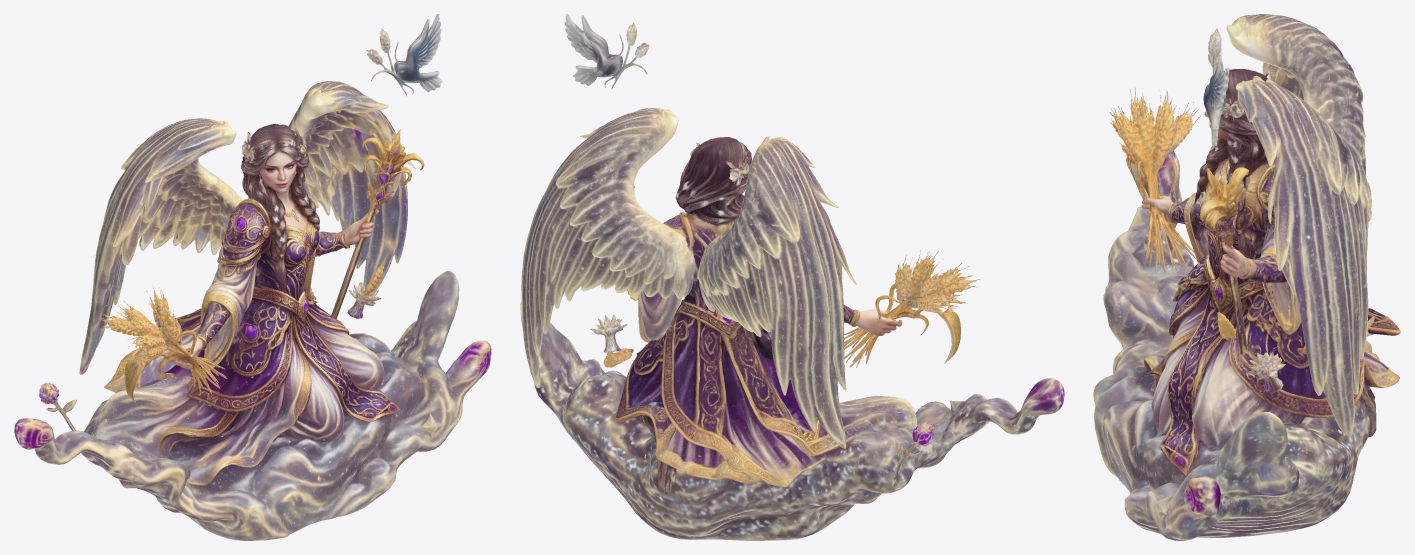
The model's file is virgo-100k.glb.
3 renders of one model, left to right at view 1: azimuth 30°, elevation 25°; view 2: azimuth 150°, elevation 25°; view 3: azimuth 270°, elevation 25°, orthographic. The views are drawn at different scales.
Parts seen in each view (by area): view 1: mesh_0; view 2: mesh_0; view 3: mesh_0.
Boxes of the visible parts, x1,y1,x2,y2 form: mesh_0: (14,14,491,540); mesh_0: (520,14,1064,540); mesh_0: (1093,14,1400,540).
Bounding box in the file's own units: 1.9 × 1.62 × 0.858.
Materials: 1 (1 with a texture image).
